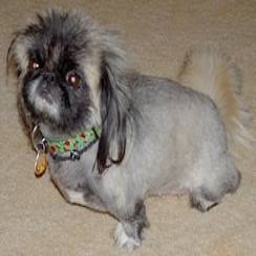dog: (10, 9, 241, 248)
